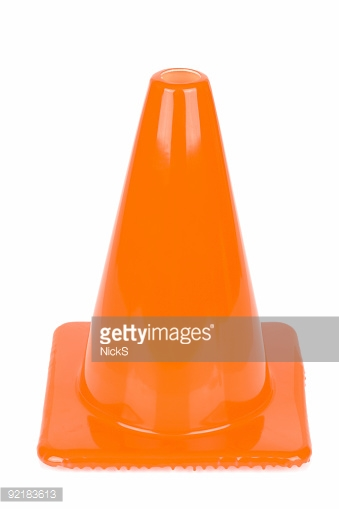trafficcone: (36, 69, 312, 468)
